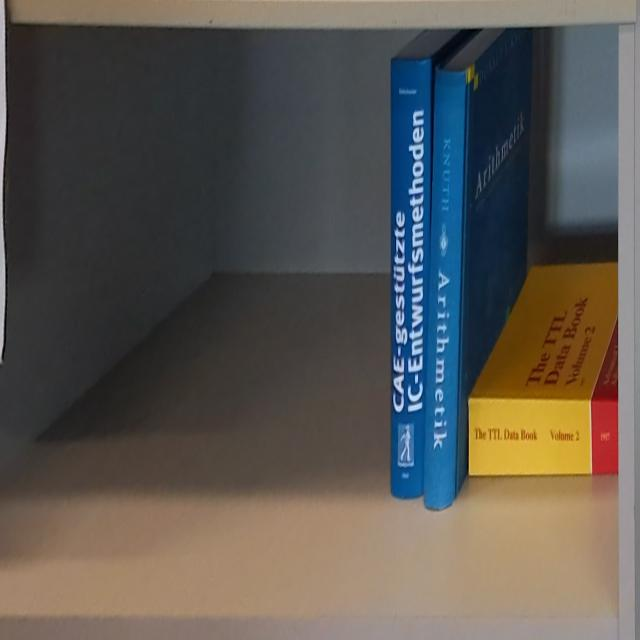Book Spine: (423, 63, 466, 509), (390, 56, 430, 499), (469, 400, 617, 474)
